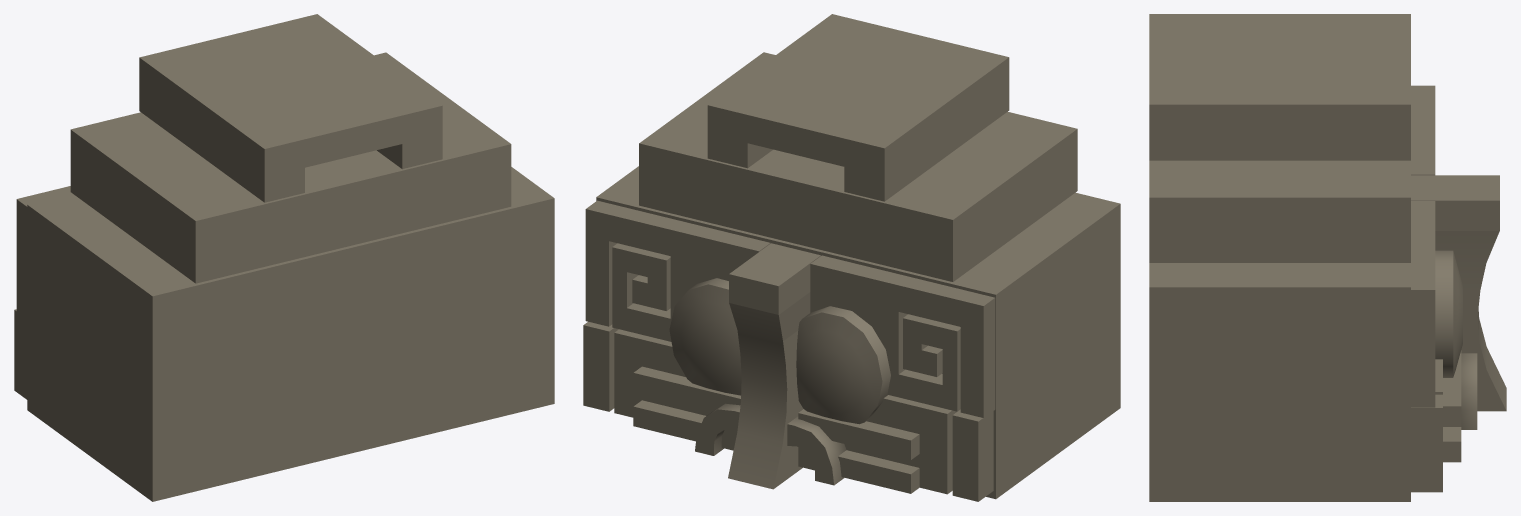
File: TempleStatue_A.fbx
3 renders of one model, left to right at view 1: azimuth 30°, elevation 25°; view 2: azimuth 150°, elevation 25°; view 3: azimuth 270°, elevation 25°, orthographic. The views are drawn at different scales.
Parts seen in each view (by area): view 1: TempleStatue_A; view 2: TempleStatue_A; view 3: TempleStatue_A.
Boxes of the visible parts, bbox=[...] form: TempleStatue_A: bbox=[14, 14, 554, 501]; TempleStatue_A: bbox=[583, 14, 1120, 501]; TempleStatue_A: bbox=[1149, 14, 1506, 501].
Size of the model in its own units: 806 by 624 by 594.
